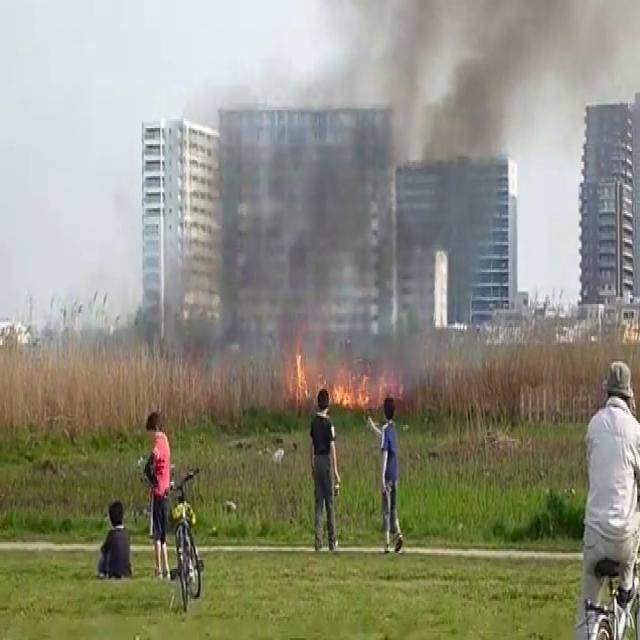Fire: (286, 334, 400, 414)
Smoke: (216, 0, 581, 370)
